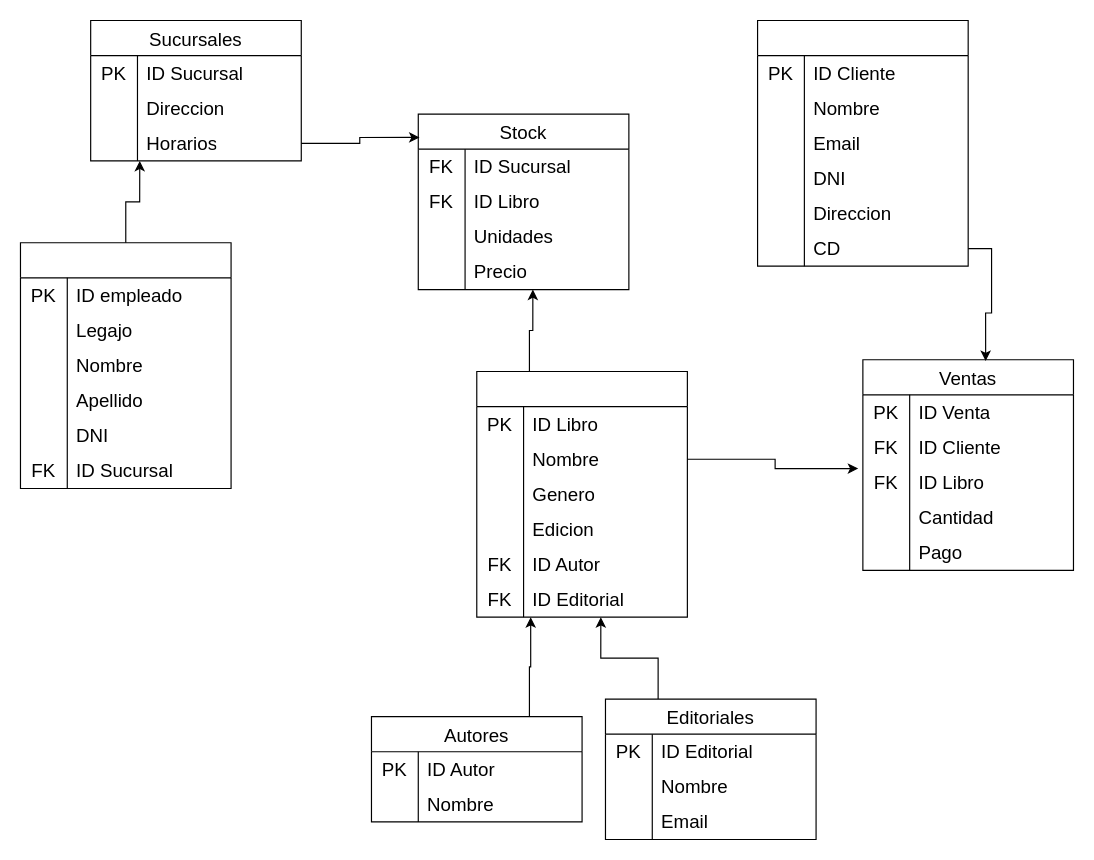
Image size: 1094x860. Some labels were removed from this diagram. Here are the shapes that lost their labels. From the top down, the box of each, then its label:
(756, 19, 968, 266): Clientes
(19, 242, 231, 488): Empleados
(476, 370, 687, 617): Libros
